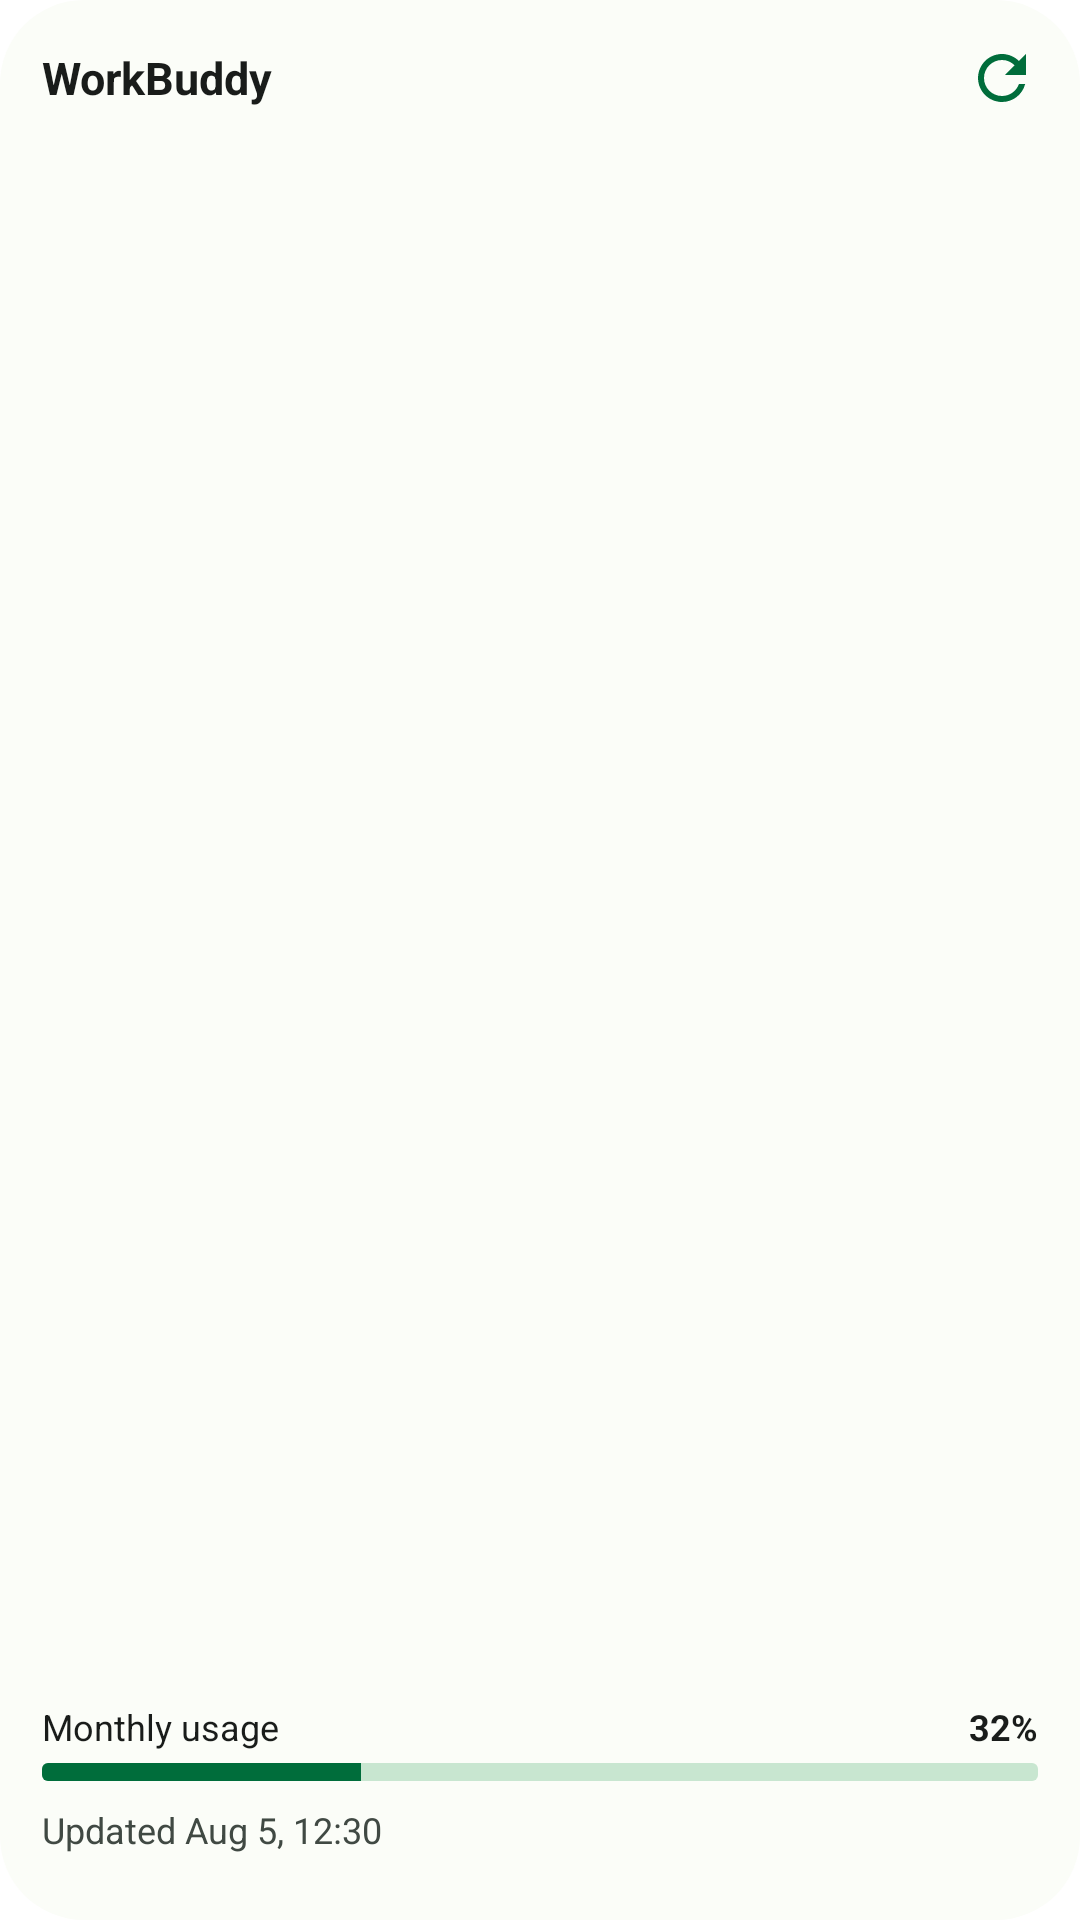

Icon click points for this 1080px x 1920px phone screenshot, format (x,y):
refresh: (1002,78)
